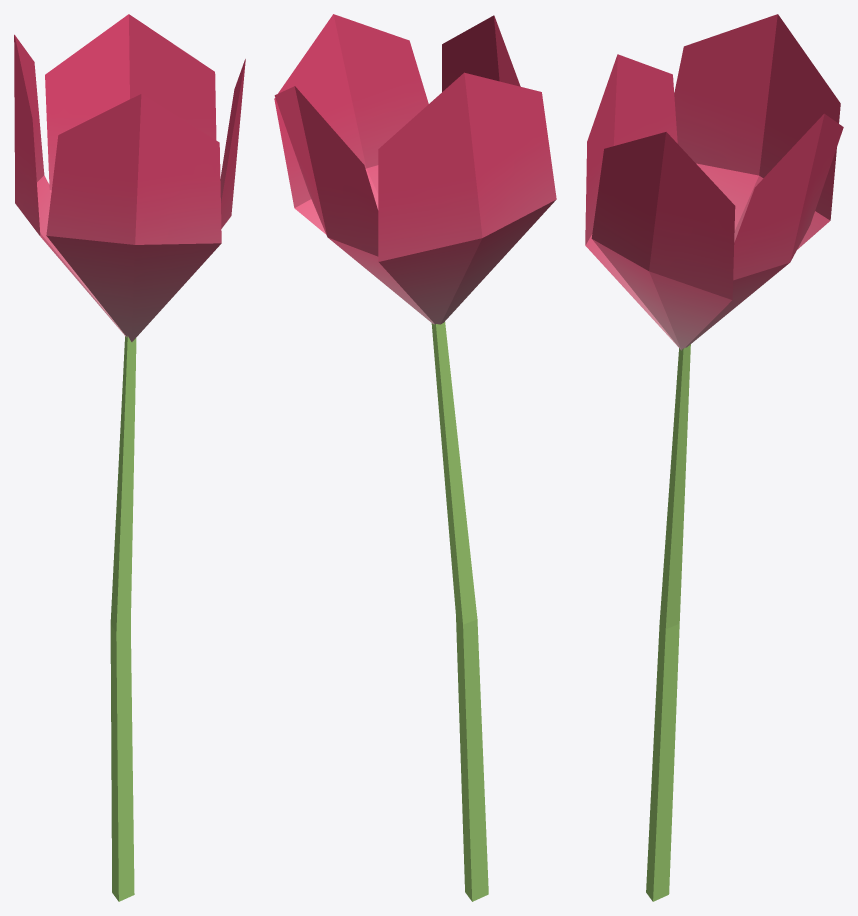
Rendered from Flower_f_TwoS_03.fbx.
3 renders of one model, left to right at view 1: azimuth 30°, elevation 25°; view 2: azimuth 150°, elevation 25°; view 3: azimuth 270°, elevation 25°, orthographic. The views are drawn at different scales.
Visible parts, largest first — view 1: Flower_f_TwoS_03; view 2: Flower_f_TwoS_03; view 3: Flower_f_TwoS_03.
Boxes of the visible parts, bbox=[...] form: Flower_f_TwoS_03: bbox=[14, 14, 245, 901]; Flower_f_TwoS_03: bbox=[274, 14, 556, 901]; Flower_f_TwoS_03: bbox=[585, 14, 843, 901].
Bounding box in the file's own units: 13.69 × 47.17 × 12.89.
